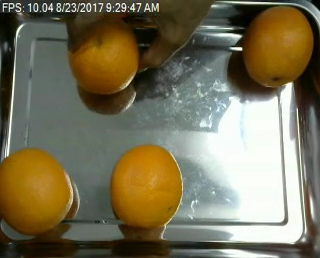Orange: (1, 148, 75, 233), (110, 143, 184, 228), (242, 5, 313, 88)
